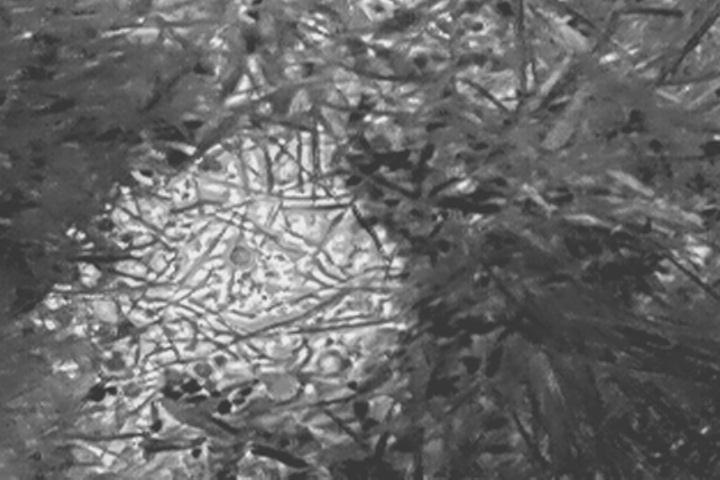landmine: (84, 155, 403, 396)
